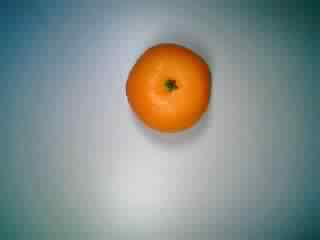orange: (118, 39, 216, 137)
